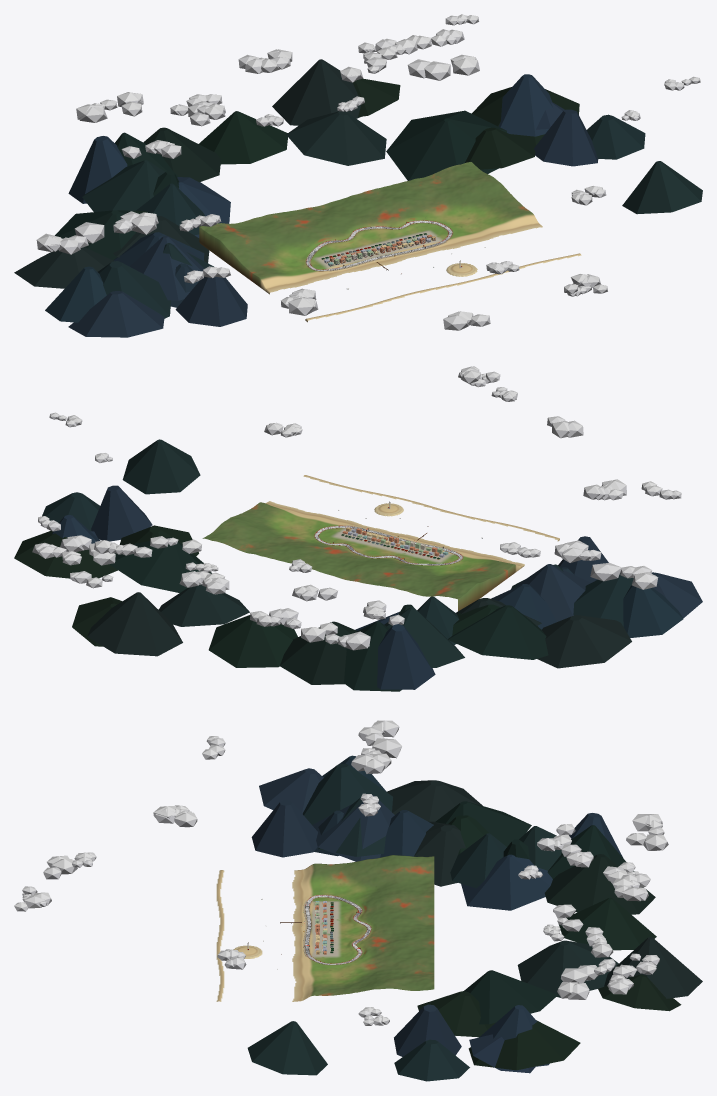
The model's file is level.glb.
3 renders of one model, top to bottom at view 1: azimuth 30°, elevation 25°; view 2: azimuth 150°, elevation 25°; view 3: azimuth 270°, elevation 25°, orthographic. The views are drawn at different scales.
Visible parts, largest first — view 1: backdrop, clouds, terrain_3_2, terrain_0_3, terrain_0_2, terrain_3_3, terrain_2_3, terrain_1_3, terrain_2_2, terrain_1_2, props, terrain_0_1 (+6 smaller); view 2: backdrop, clouds, terrain_0_3, terrain_3_3, terrain_1_3, terrain_3_2, terrain_0_2, terrain_2_3, props, terrain_2_2, terrain_1_2, road (+2 smaller); view 3: backdrop, clouds, terrain_0_3, terrain_0_2, terrain_1_3, terrain_2_3, terrain_3_3, terrain_2_2, terrain_1_2, terrain_3_2, terrain_0_1, props (+4 smaller).
Boxes of the visible parts, x1,y1,x2,y2 form: backdrop: (14, 59, 702, 337); clouds: (36, 14, 700, 330); terrain_3_2: (432, 183, 528, 232); terrain_0_3: (199, 215, 295, 263); terrain_0_2: (228, 238, 324, 284); terrain_3_3: (404, 162, 500, 206); terrain_2_3: (336, 182, 432, 223); terrain_1_3: (267, 201, 363, 238); terrain_2_2: (365, 206, 460, 247); terrain_1_2: (296, 223, 391, 265); props: (321, 221, 485, 289); terrain_0_1: (257, 265, 337, 294); backdrop: (14, 439, 702, 691); clouds: (32, 366, 681, 650); terrain_0_3: (394, 570, 485, 611); terrain_3_3: (202, 518, 292, 556); terrain_1_3: (330, 556, 420, 587); terrain_3_2: (230, 504, 319, 540); terrain_0_2: (422, 556, 512, 594); terrain_2_3: (266, 540, 356, 574); props: (333, 501, 482, 560); terrain_2_2: (294, 525, 380, 556); terrain_1_2: (358, 542, 448, 570); road: (314, 525, 462, 565); backdrop: (247, 755, 702, 1081); clouds: (14, 720, 668, 1025); terrain_0_3: (377, 855, 434, 895); terrain_0_2: (319, 858, 376, 901); terrain_1_3: (377, 893, 434, 930); terrain_2_3: (377, 929, 434, 963); terrain_3_3: (377, 959, 434, 990); terrain_2_2: (319, 930, 376, 967); terrain_1_2: (319, 896, 376, 934); terrain_3_2: (319, 963, 376, 995); terrain_0_1: (292, 863, 319, 903); props: (247, 898, 360, 969).
Bounding box in the file's own units: 3088 × 414 × 2834.
